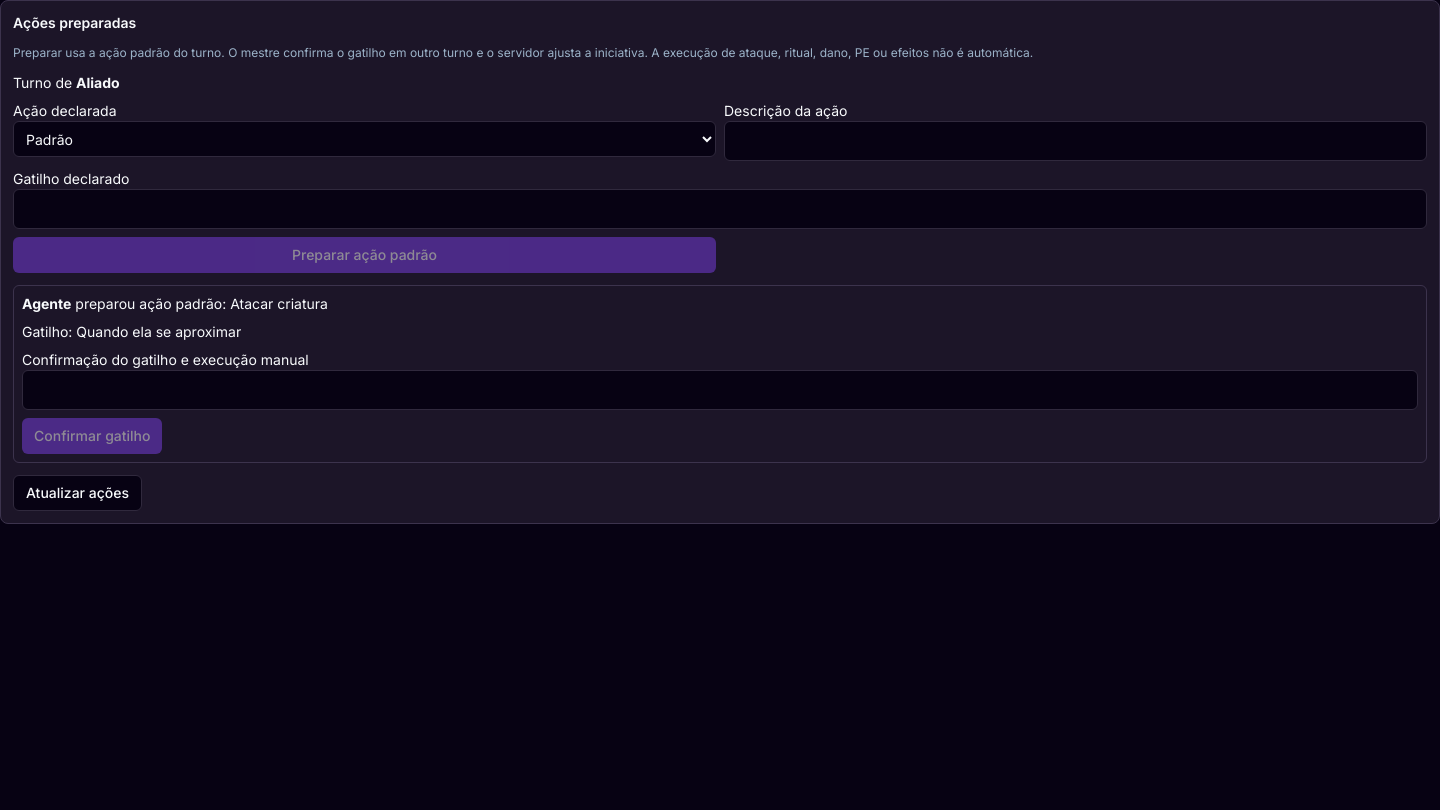
Test case: ações preparadas da campanha v2 › confirma gatilho em outro turno e mantém ataque, dano e PE manuais
Expected: the text "Agente preparou ação padrão: Atacar criatura" is shown, [22, 295, 328, 312]
Type "Gatilho ocorreu; ação resolvida pela mesa" into the field labelled "Confirmação do gatilho e execução manual" at (720, 390), box [22, 370, 1418, 410]
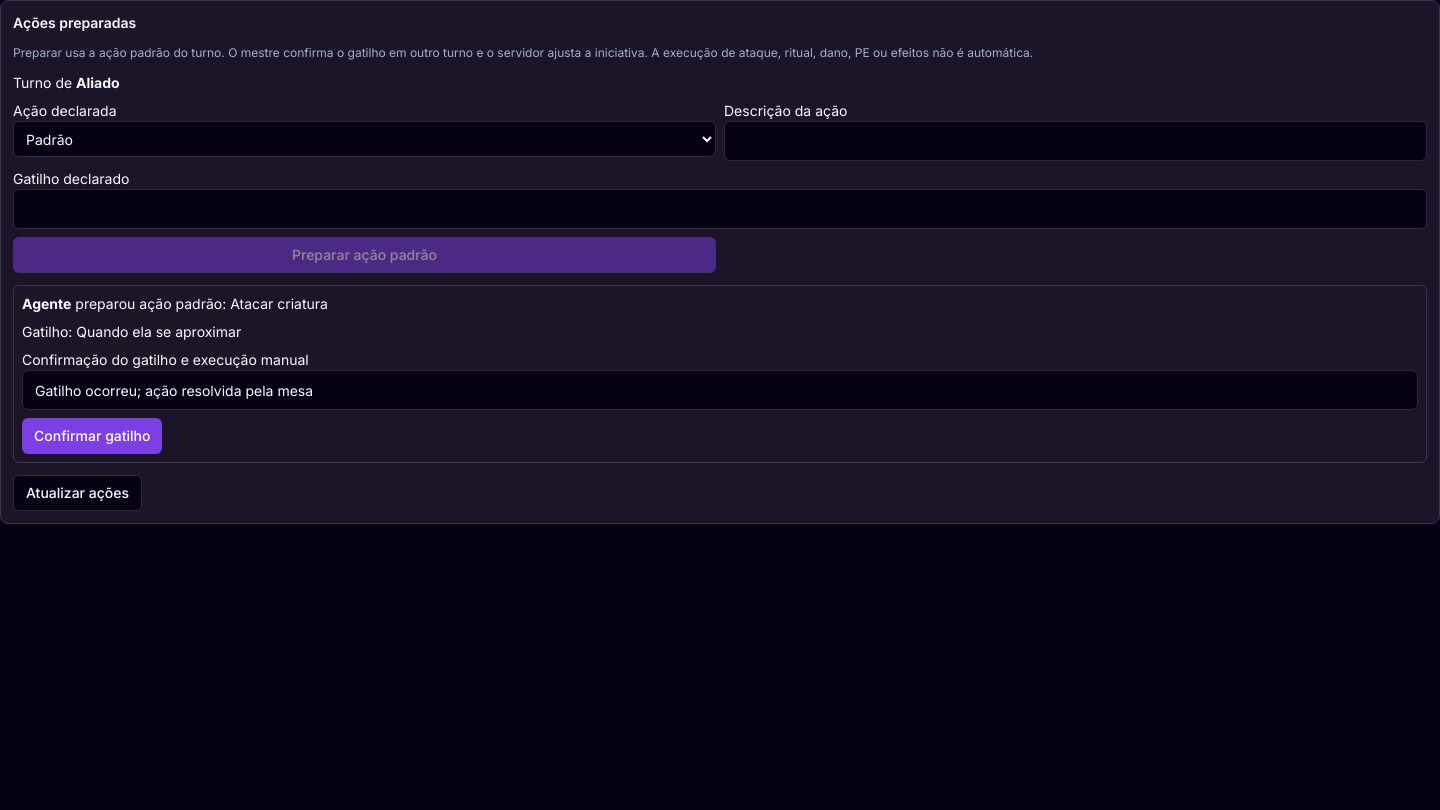
Click the button "Confirmar gatilho" at (92, 436), box [22, 418, 162, 454]
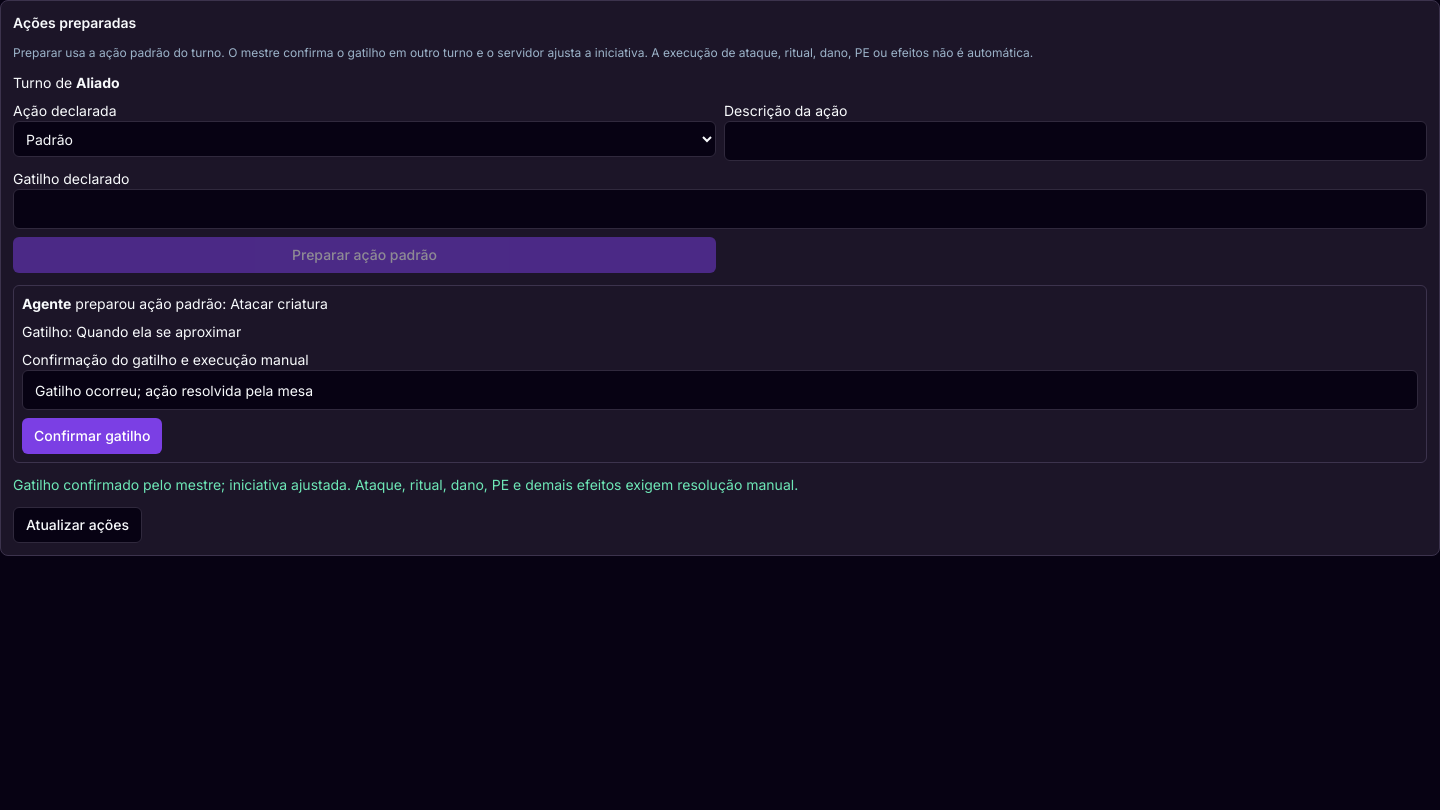
Expected: the message shows "Ataque, ritual, dano, PE e demais efeitos exigem resolução manual", [13, 476, 798, 493]
